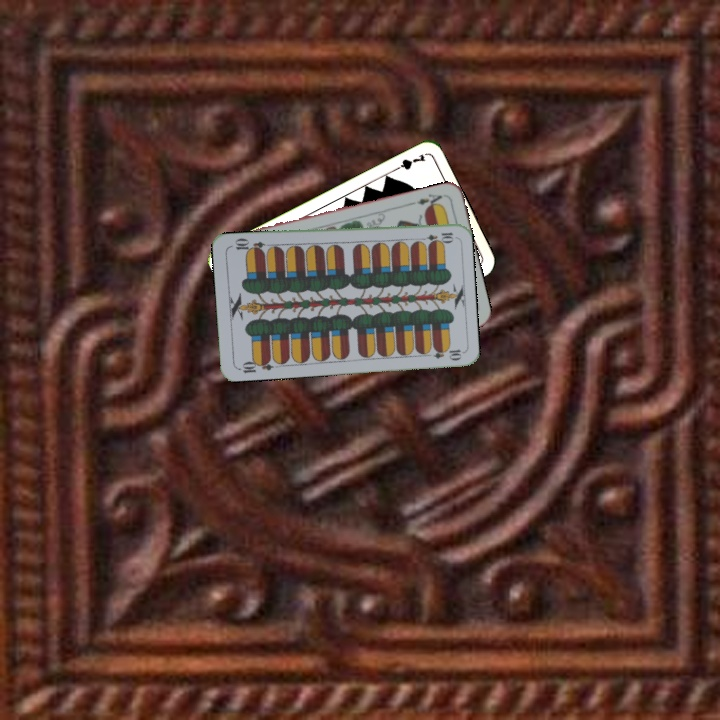E10: (235, 355, 275, 376), (415, 228, 456, 244)
EA: (407, 190, 445, 211)
G7: (389, 150, 428, 174)
